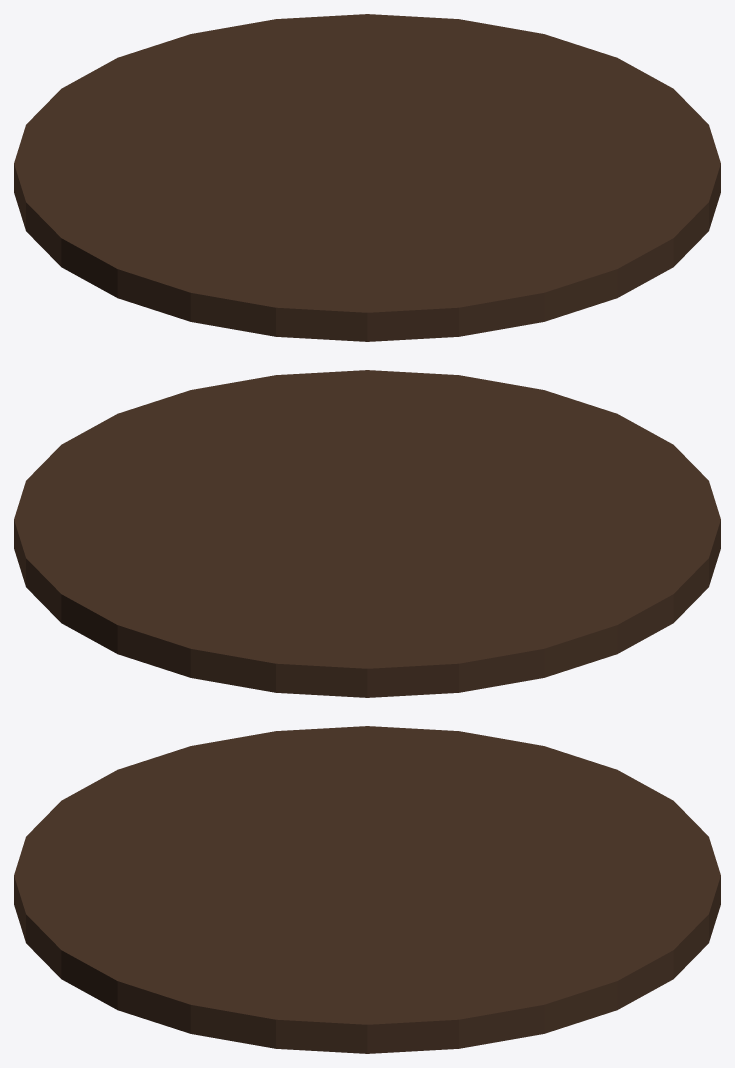
File: shop_plinth.glb
3 renders of one model, top to bottom at view 1: azimuth 30°, elevation 25°; view 2: azimuth 150°, elevation 25°; view 3: azimuth 270°, elevation 25°, orthographic.
Visible parts, largest first — view 1: SHOP_Plinth; view 2: SHOP_Plinth; view 3: SHOP_Plinth.
Part boxes in pixels (x1=…): SHOP_Plinth: x1=14, y1=14, x2=720, y2=341; SHOP_Plinth: x1=14, y1=370, x2=720, y2=697; SHOP_Plinth: x1=14, y1=726, x2=720, y2=1053.
Bounding box in the file's own units: 1.1 × 0.05 × 1.1.
